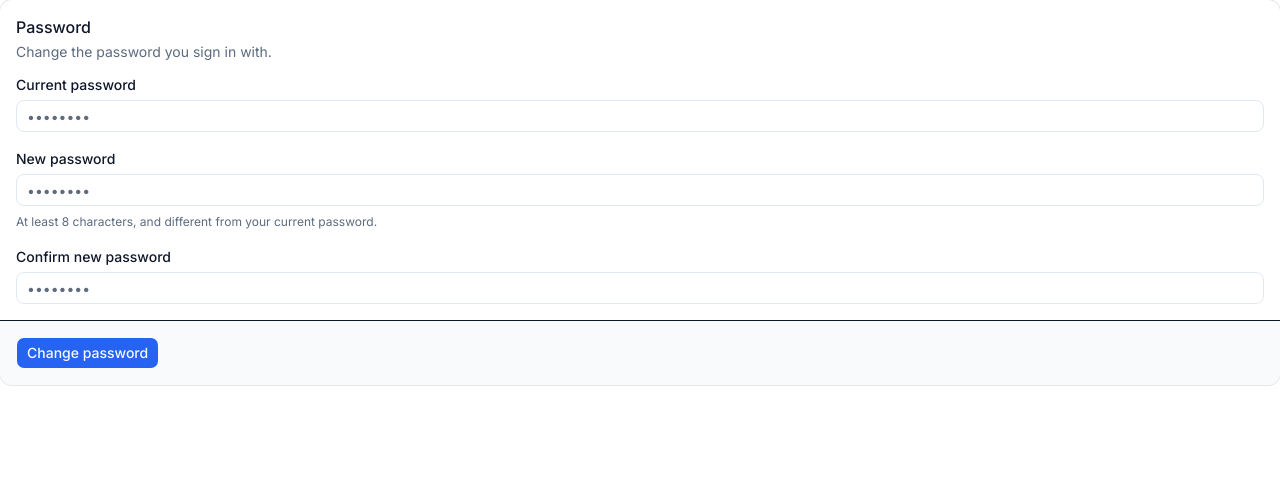
ChangePasswordForm – success › REGRESSION: states what revocation cannot do — tokens already issued live until they expire
Step 1. Type "old-correct-horse" into the password field labelled "Current password" → (640, 116), box [16,100,1264,132]
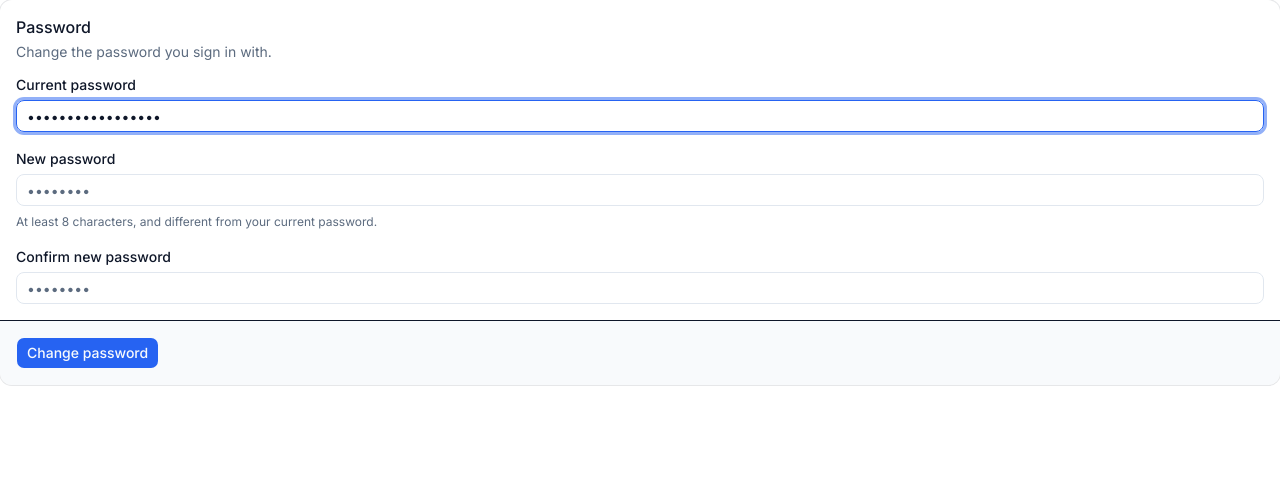
Step 2. Type "new-battery-staple" into the password field labelled "New password" → (640, 190), box [16,174,1264,206]
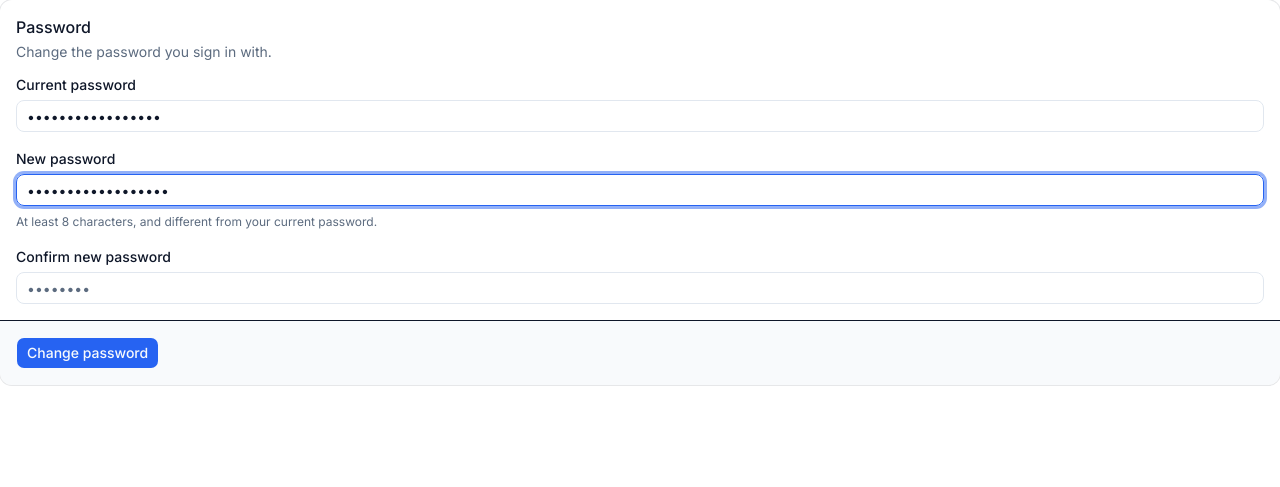
Step 3. Type "new-battery-staple" into the password field labelled "Confirm new password" → (640, 288), box [16,272,1264,304]
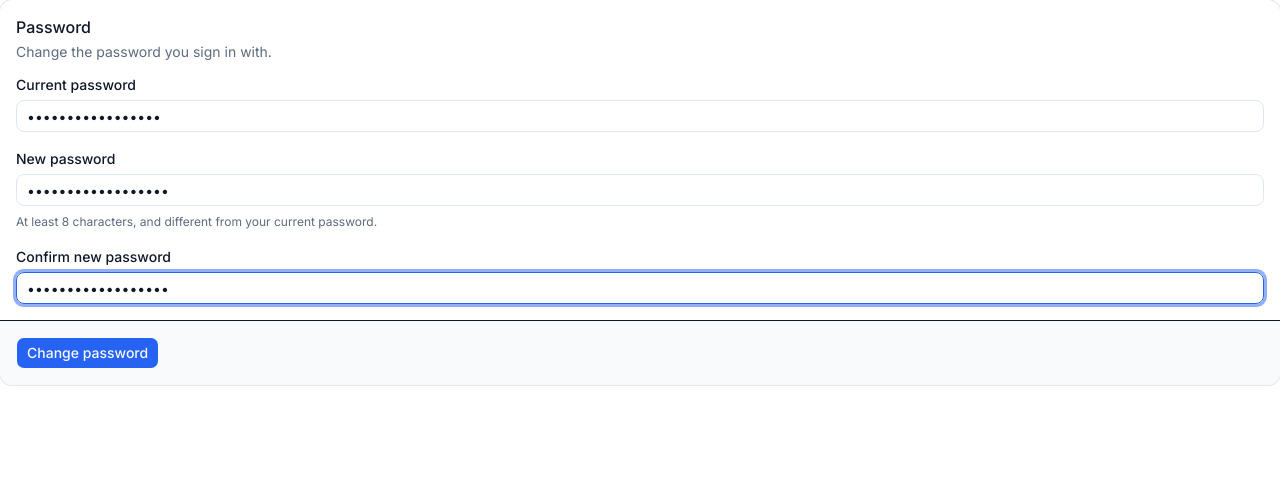
Step 4. Click the button "Change password" → (88, 353), box [16,337,159,369]
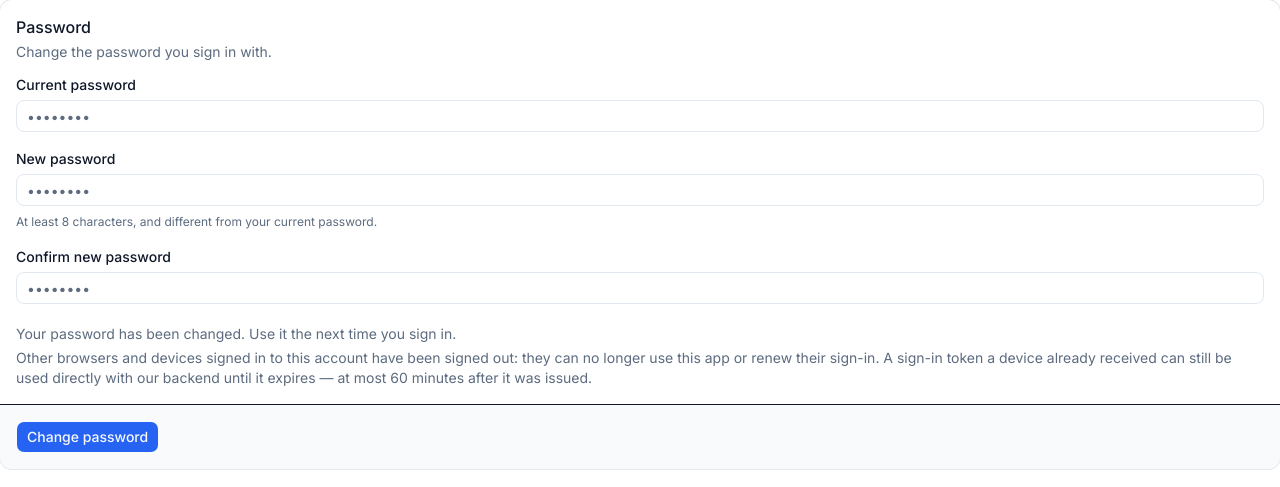
Result: the message shows "can no longer use this app or renew their sign-in" at [16,349,879,366]
Result: the message shows "can still be used directly with our backend until it expires — at most 60 minutes" at [16,349,1232,386]
